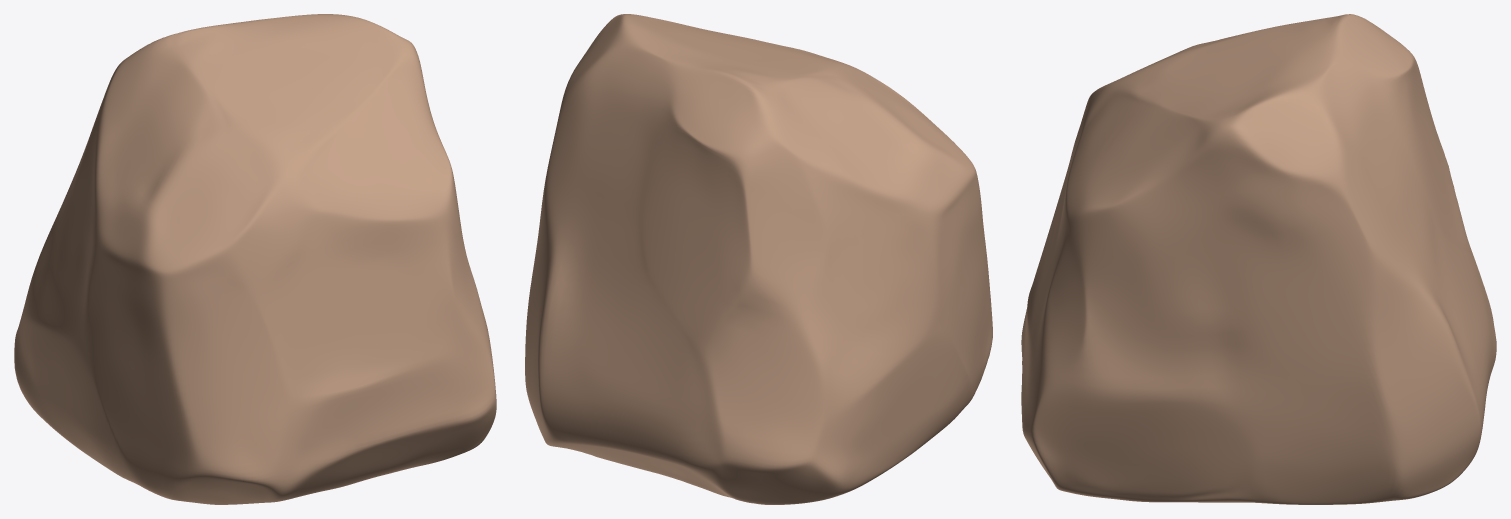
The model's file is Rock1_HP.FBX.
3 views of the same model, side by side, from view 1: azimuth 30°, elevation 25°; view 2: azimuth 150°, elevation 25°; view 3: azimuth 270°, elevation 25° (orthographic). The views are drawn at different scales.
Visible parts, largest first — view 1: Box007; view 2: Box007; view 3: Box007.
Part boxes in pixels (x1,y1,x2,y2): Box007: (14,14,496,504); Box007: (525,14,992,504); Box007: (1021,14,1496,504).
Bounding box in the file's own units: 58.06 × 60.58 × 63.88.
